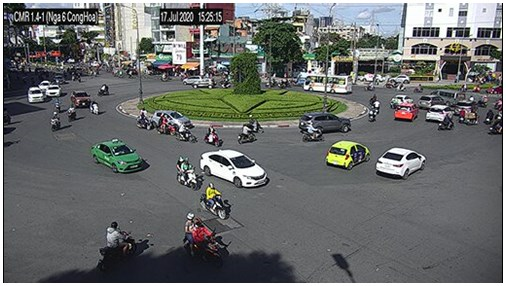xe_buyt: (303, 75, 352, 94)
xe_hoi: (200, 150, 268, 187), (91, 138, 143, 173), (376, 147, 426, 179), (326, 140, 370, 170), (425, 105, 454, 121), (395, 104, 416, 121), (418, 95, 443, 108), (71, 90, 88, 107), (391, 94, 413, 107), (28, 86, 43, 103), (192, 78, 215, 88), (181, 75, 202, 85), (47, 83, 60, 96), (40, 79, 49, 93)
xe_khach: (431, 88, 466, 105)
xe_may: (184, 212, 223, 271), (100, 221, 135, 273), (199, 182, 226, 220), (176, 156, 198, 190), (302, 122, 325, 142), (157, 113, 175, 136), (245, 115, 264, 135), (202, 125, 219, 147), (177, 123, 195, 143), (437, 112, 455, 132), (238, 124, 256, 143), (136, 112, 152, 130), (489, 114, 502, 134), (65, 103, 76, 124), (50, 111, 60, 132), (88, 98, 100, 115), (466, 109, 478, 126), (482, 108, 492, 124), (96, 84, 109, 96), (368, 105, 377, 122), (372, 97, 381, 112), (413, 83, 425, 93), (395, 82, 408, 90), (458, 108, 464, 124), (53, 97, 60, 110), (363, 82, 376, 89), (472, 83, 481, 93), (458, 84, 467, 91)
